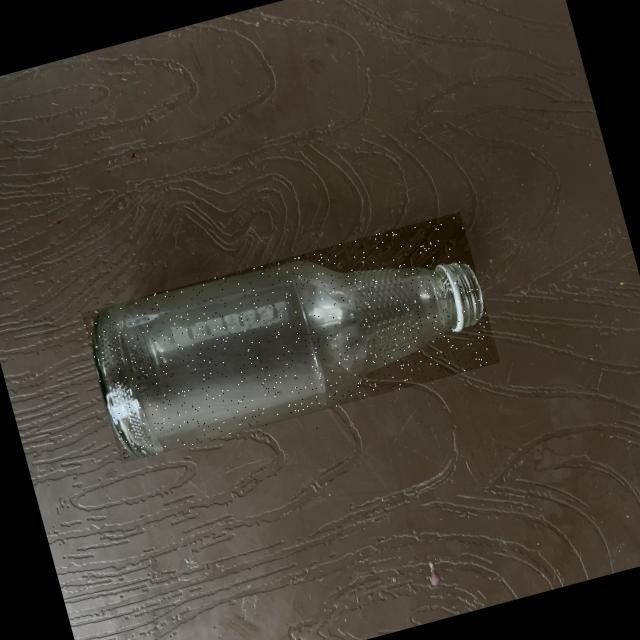Glass_Bottle: (93, 262, 482, 456)
